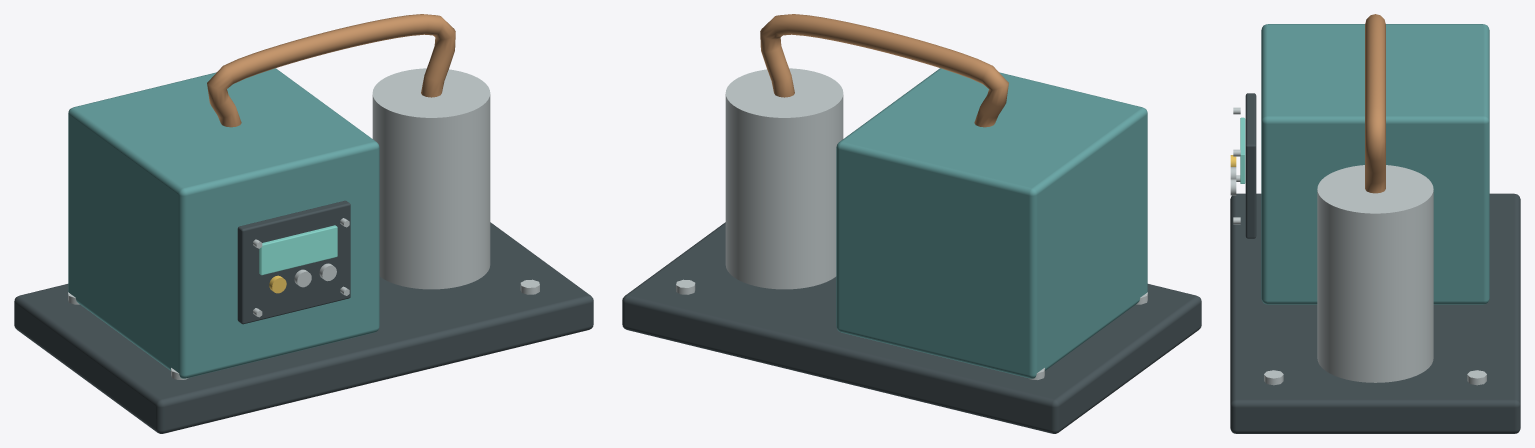
The model's file is hydroelectric-dam-infiltration-lubrication-skid-05683ba4__29361.glb.
The picture shows the model from 3 angles, left to right: view 1: azimuth 30°, elevation 25°; view 2: azimuth 150°, elevation 25°; view 3: azimuth 270°, elevation 25°; orthographic projection.
Parts seen in each view (by area): view 1: lubrication-skid; view 2: lubrication-skid; view 3: lubrication-skid.
Part boxes in pixels (x1,y1,x2,y2): lubrication-skid: [14, 14, 593, 433]; lubrication-skid: [622, 14, 1201, 433]; lubrication-skid: [1230, 14, 1520, 433].
Bounding box in the file's own units: 1.2 × 0.7645 × 0.7.
